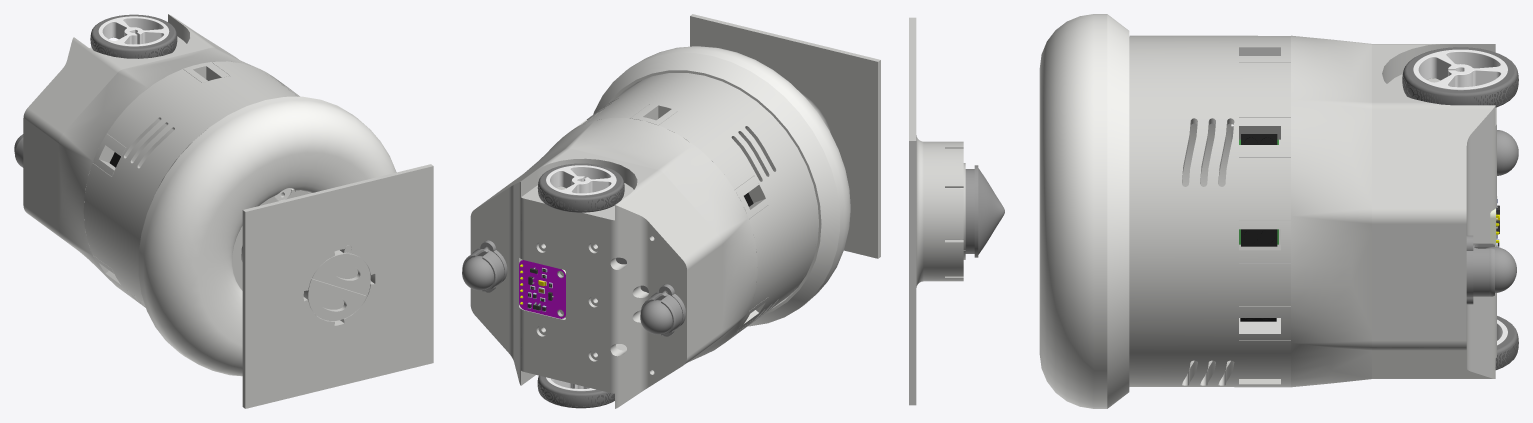
Rendered from miniqupa.obj.
3 renders of one model, left to right at view 1: azimuth 30°, elevation 25°; view 2: azimuth 150°, elevation 25°; view 3: azimuth 270°, elevation 25°, orthographic. The views are drawn at different scales.
Parts seen in each view (by area): view 1: cad_group_250, cad_group_1312, cad_group_765, cad_group_246, cad_group_245, cad_group_100, cad_group_249, cad_group_248, cad_group_99, cad_group_764, cad_group_1313; view 2: cad_group_245, cad_group_765, cad_group_250, cad_group_1312, cad_group_246, cad_group_101, cad_group_99, cad_group_100, cad_group_764, cad_group_97, cad_group_3, cad_group_1 (+3 smaller); view 3: cad_group_245, cad_group_765, cad_group_1312, cad_group_250, cad_group_764, cad_group_100, cad_group_99, cad_group_247, cad_group_0, cad_group_1, cad_group_3, cad_group_97.
Part boxes in pixels (<box>): cad_group_250: <box>242,164,433,408</box>; cad_group_1312: <box>138,96,396,376</box>; cad_group_765: <box>83,61,299,307</box>; cad_group_246: <box>37,68,137,280</box>; cad_group_245: <box>23,14,260,222</box>; cad_group_100: <box>98,16,169,46</box>; cad_group_249: <box>303,278,366,320</box>; cad_group_248: <box>312,250,370,295</box>; cad_group_99: <box>90,14,177,58</box>; cad_group_764: <box>92,62,290,290</box>; cad_group_1313: <box>232,189,310,290</box>; cad_group_245: <box>470,118,702,408</box>; cad_group_765: <box>560,74,817,351</box>; cad_group_250: <box>690,14,880,258</box>; cad_group_1312: <box>593,46,850,326</box>; cad_group_246: <box>652,152,757,361</box>; cad_group_101: <box>519,259,565,318</box>; cad_group_99: <box>537,163,624,212</box>; cad_group_100: <box>546,165,616,195</box>; cad_group_764: <box>561,104,768,332</box>; cad_group_97: <box>537,375,614,408</box>; cad_group_3: <box>640,300,672,334</box>; cad_group_1: <box>462,256,493,290</box>; cad_group_245: <box>1291,35,1496,387</box>; cad_group_765: <box>1129,35,1290,387</box>; cad_group_1312: <box>1039,14,1129,408</box>; cad_group_250: <box>909,17,963,405</box>; cad_group_764: <box>1239,44,1290,385</box>; cad_group_100: <box>1413,49,1507,90</box>; cad_group_99: <box>1402,47,1518,107</box>; cad_group_247: <box>965,165,1004,257</box>; cad_group_0: <box>1466,235,1494,304</box>; cad_group_1: <box>1486,247,1516,292</box>; cad_group_3: <box>1497,130,1518,175</box>; cad_group_97: <box>1495,316,1518,369</box>.
Size of the model in its own units: 0.1081 by 0.1084 by 0.1673.
